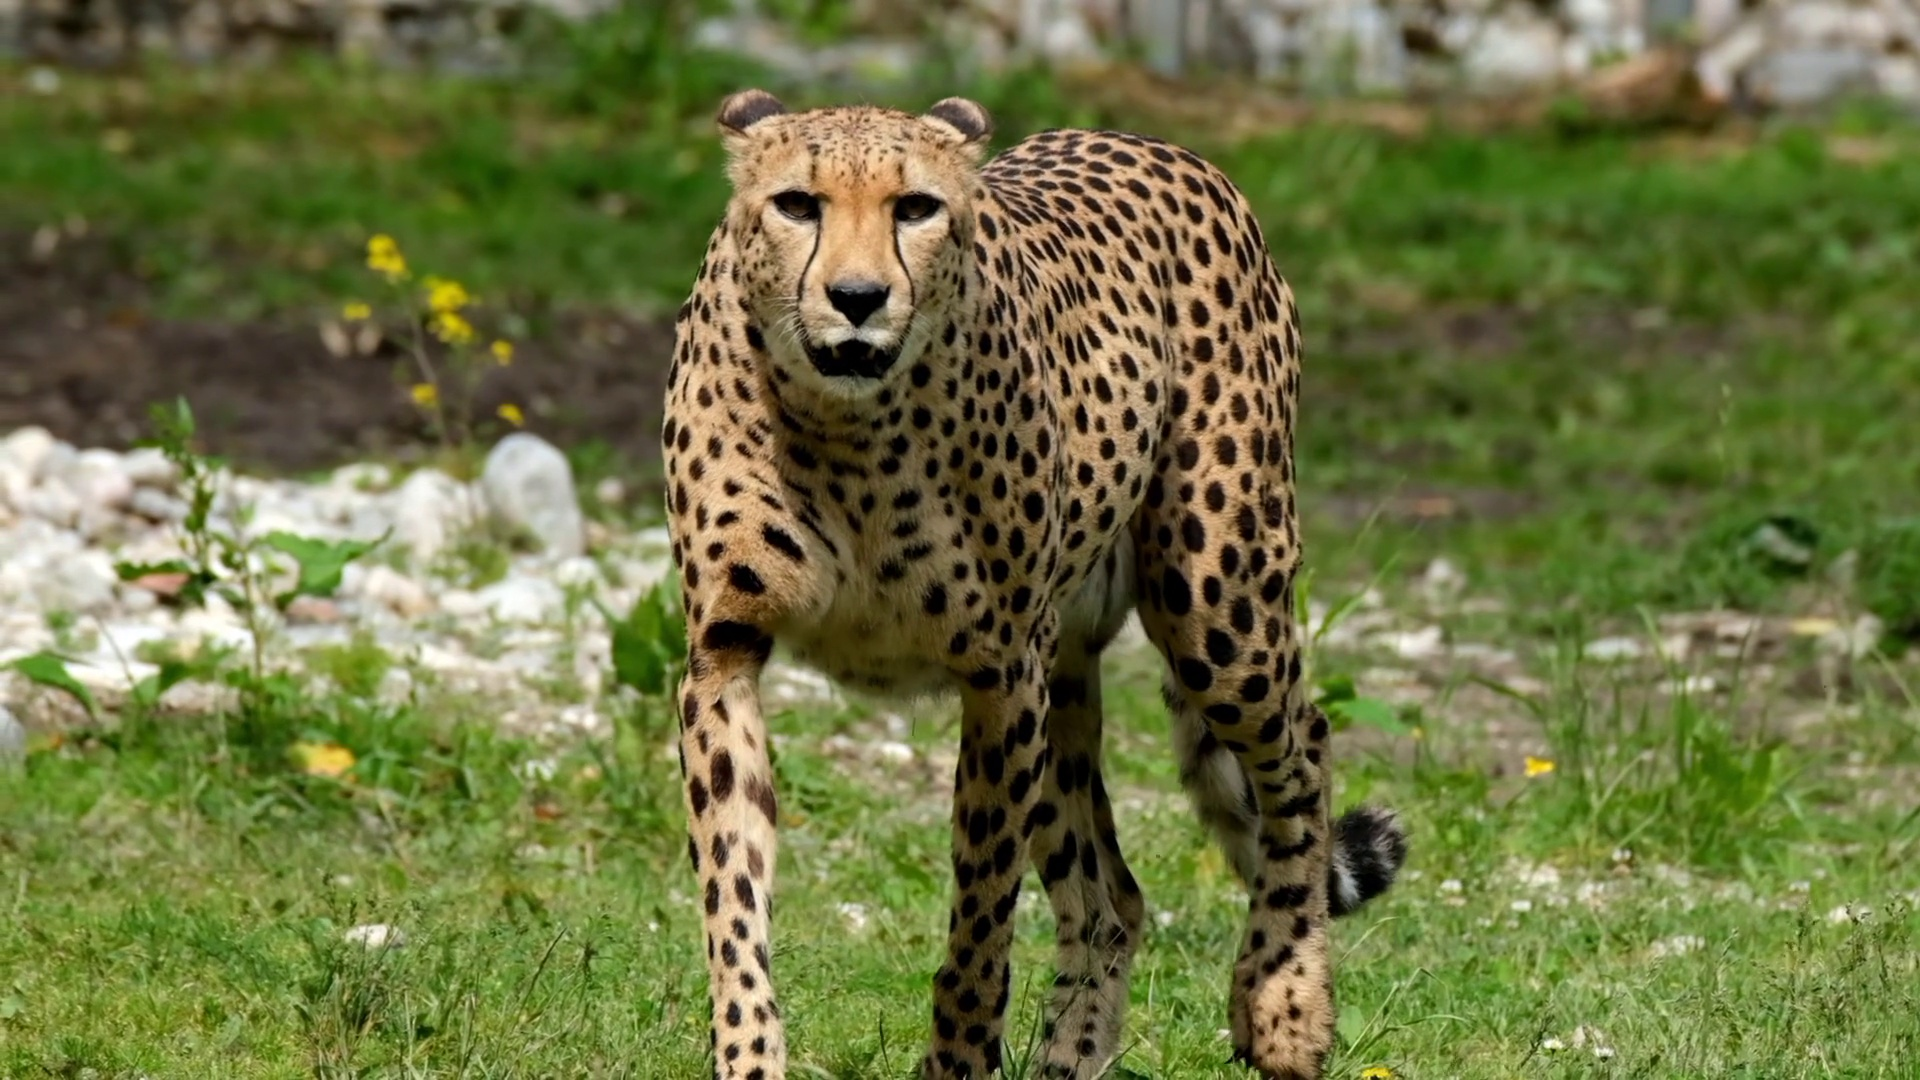Cheetah: (655, 82, 1410, 1080)
